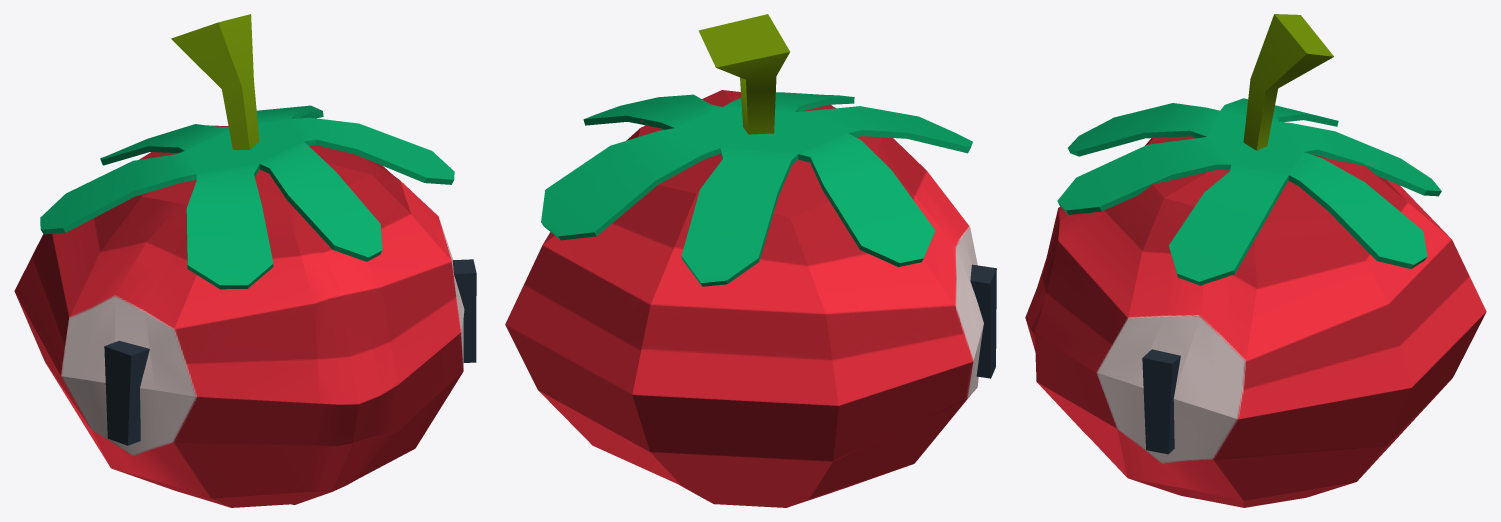
File: frutaCura_UVOpen.fbx
3 renders of one model, left to right at view 1: azimuth 30°, elevation 25°; view 2: azimuth 150°, elevation 25°; view 3: azimuth 270°, elevation 25°, orthographic. The views are drawn at different scales.
Visible parts, largest first — view 1: FrutaCura; view 2: FrutaCura; view 3: FrutaCura.
Boxes of the visible parts, x1,y1,x2,y2 form: FrutaCura: (14,14,476,507); FrutaCura: (505,14,996,507); FrutaCura: (1025,14,1486,507).
Size of the model in its own units: 4.36 by 4.7 by 4.41.
